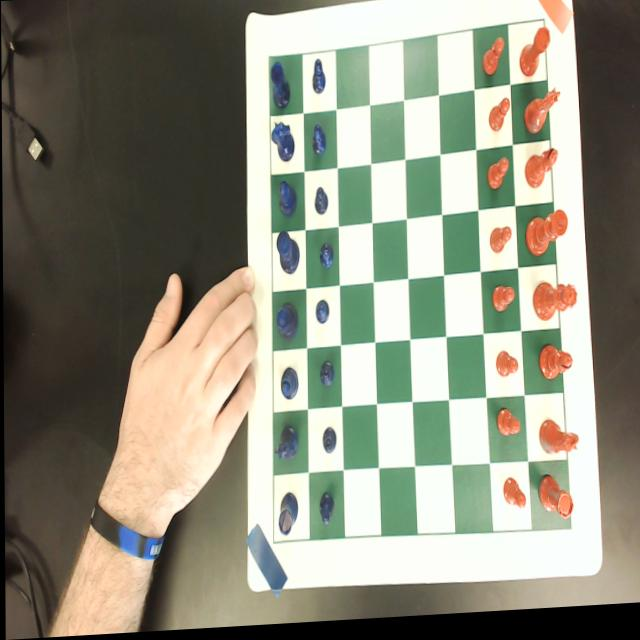B: (278, 182, 296, 221), (279, 368, 297, 403)
K: (275, 232, 299, 278)
N: (269, 121, 295, 165), (271, 428, 299, 466)
P: (310, 124, 327, 159), (310, 59, 325, 98), (317, 495, 333, 530), (320, 426, 335, 457), (313, 300, 329, 329), (313, 188, 327, 219), (319, 363, 333, 394), (318, 245, 333, 271)
Q: (275, 304, 297, 343)
R: (268, 64, 290, 113), (276, 494, 297, 539)
b: (523, 152, 557, 195), (537, 348, 571, 391)
k: (523, 214, 567, 265)
n: (522, 91, 561, 141), (537, 422, 577, 461)
p: (481, 42, 504, 83), (501, 481, 524, 516), (487, 102, 509, 137), (495, 411, 519, 443), (486, 162, 508, 195), (491, 290, 513, 319), (494, 354, 516, 383), (488, 231, 510, 258)
q: (531, 286, 576, 328)
r: (536, 478, 572, 527), (518, 31, 550, 84)
